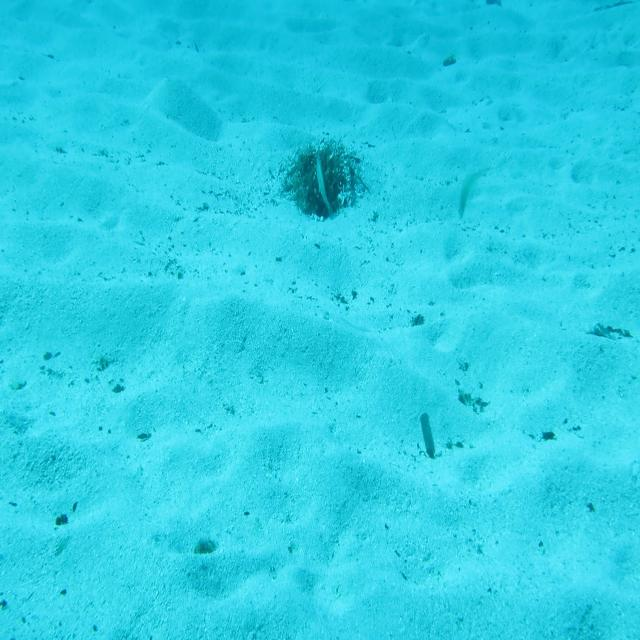FAN: (316, 156, 337, 218)
female: (453, 161, 490, 225)
nest: (280, 137, 368, 220)
vegetation: (418, 409, 438, 462), (585, 324, 634, 344), (190, 535, 218, 559), (442, 54, 458, 68)
